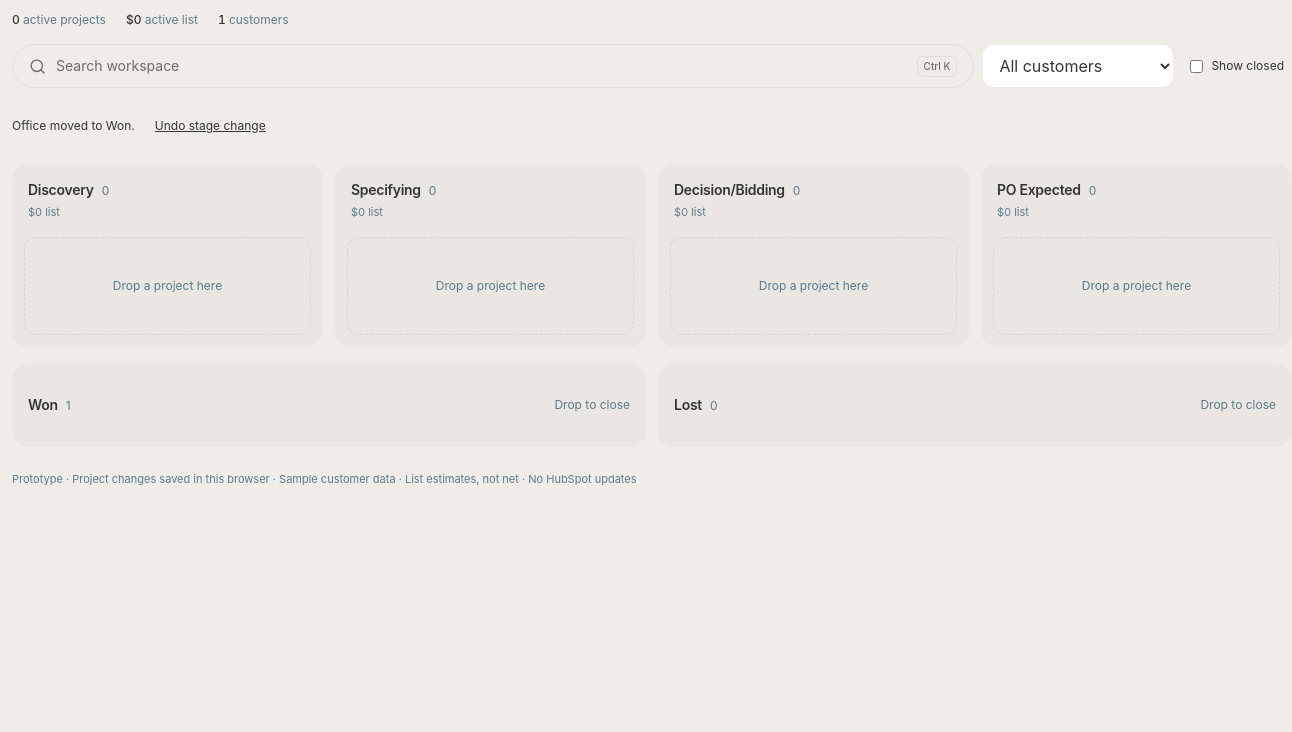
Test: Active Projects board drag wiring › can close a project through the persistent Won drop target
Click the checkbox labelled "Show closed": coordinates (1197, 66) [1190,60,1203,72]
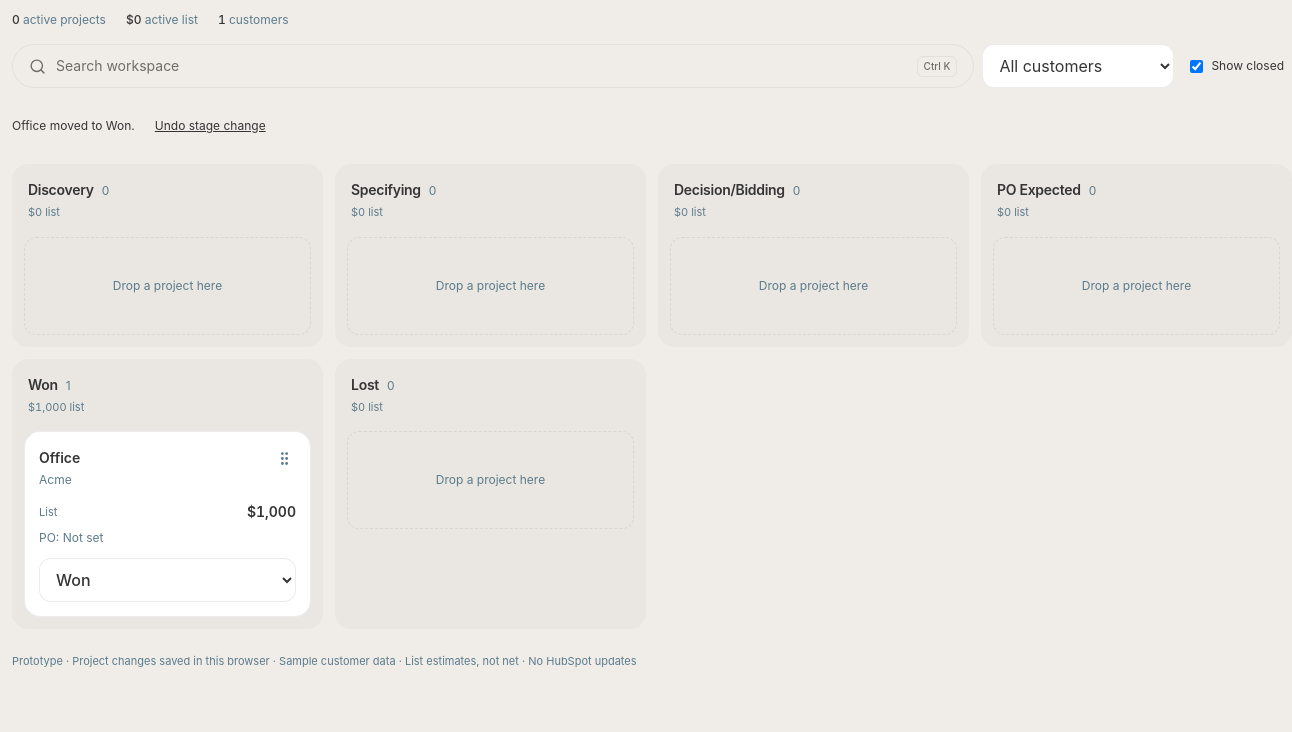
Expected: the text "Office" is shown, [39,449,80,466]
